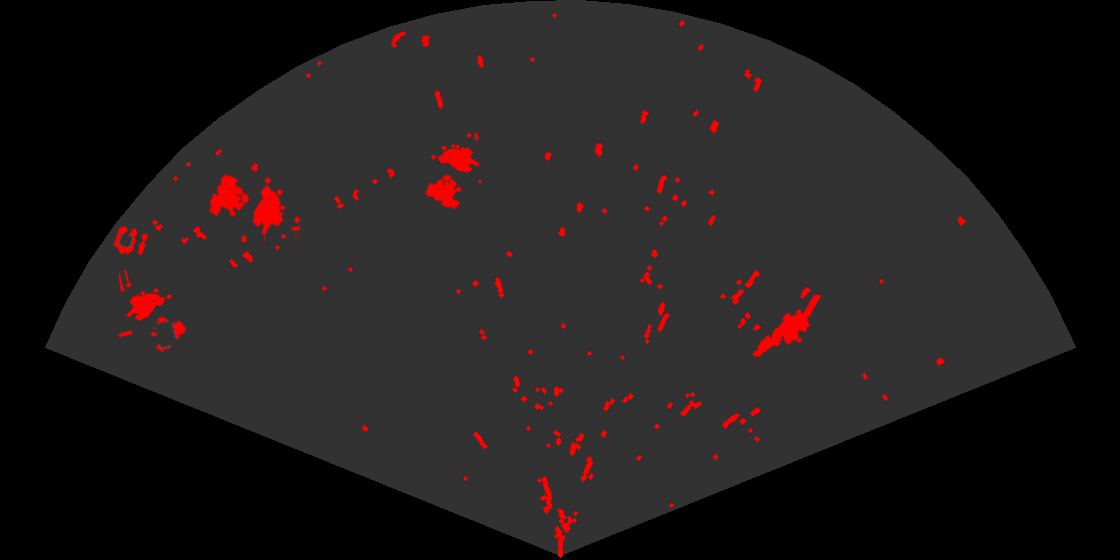ball: (113, 224, 149, 257)
cage: (207, 173, 300, 242), (119, 270, 188, 354), (424, 133, 481, 211)
frogman: (751, 295, 822, 359)
